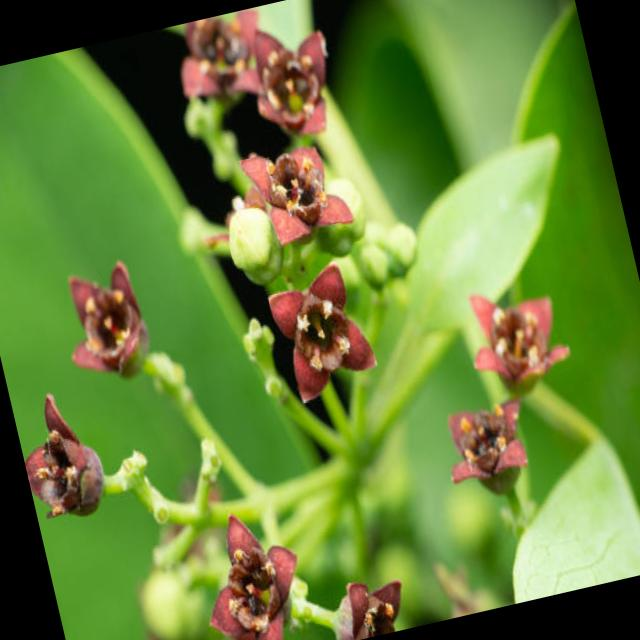Sandalwood: (244, 195, 623, 581), (11, 324, 435, 640), (0, 196, 192, 444), (186, 4, 352, 245), (236, 212, 418, 416)
